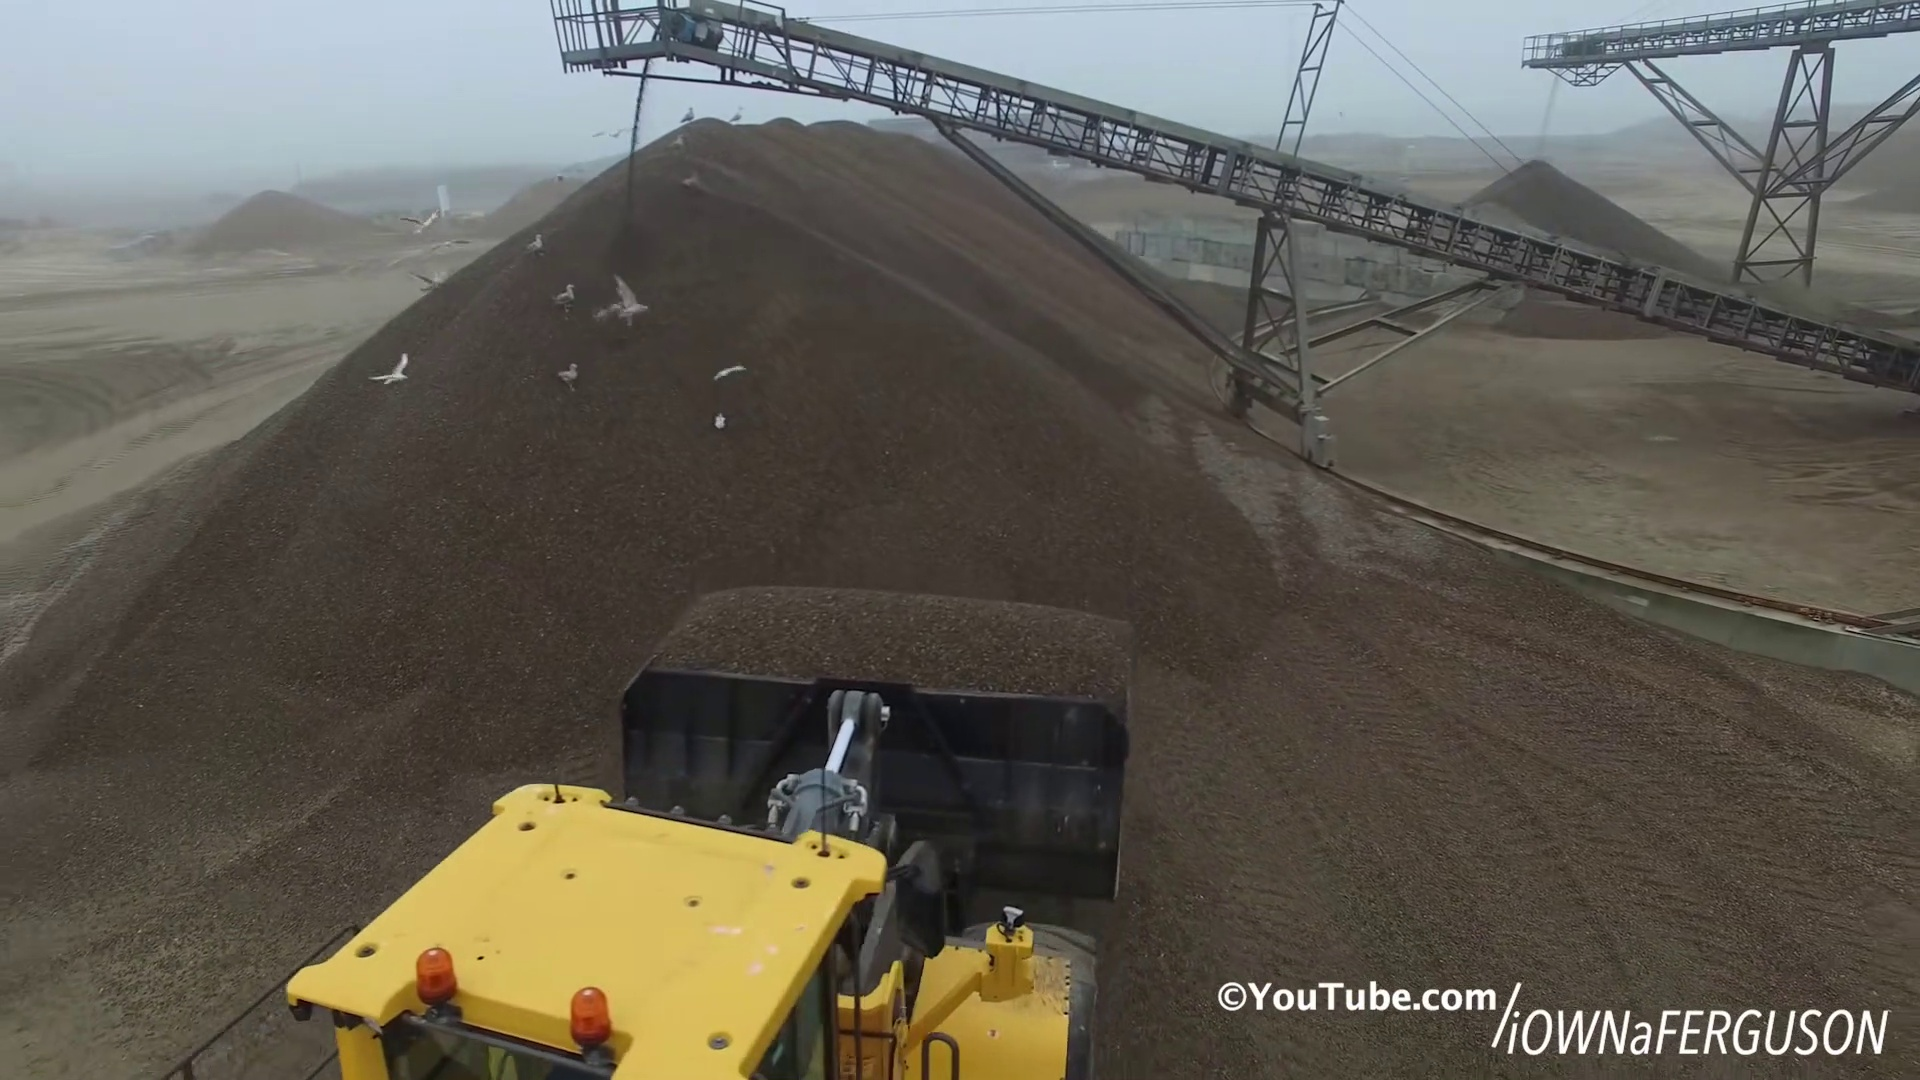wheel loader: (280, 579, 1138, 1080)
